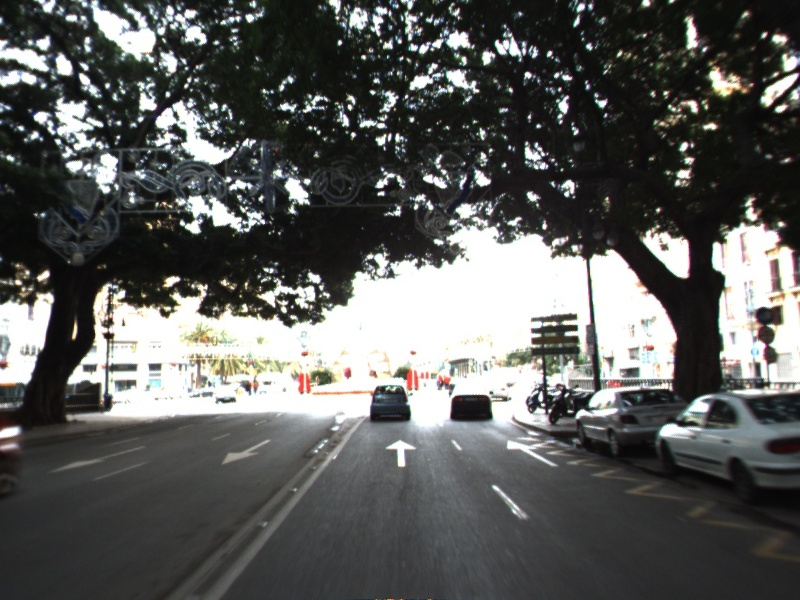STRAIGHT: (505, 438, 561, 468), (383, 438, 419, 469)
